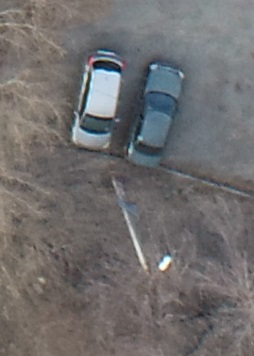opora: (111, 174, 172, 281)
